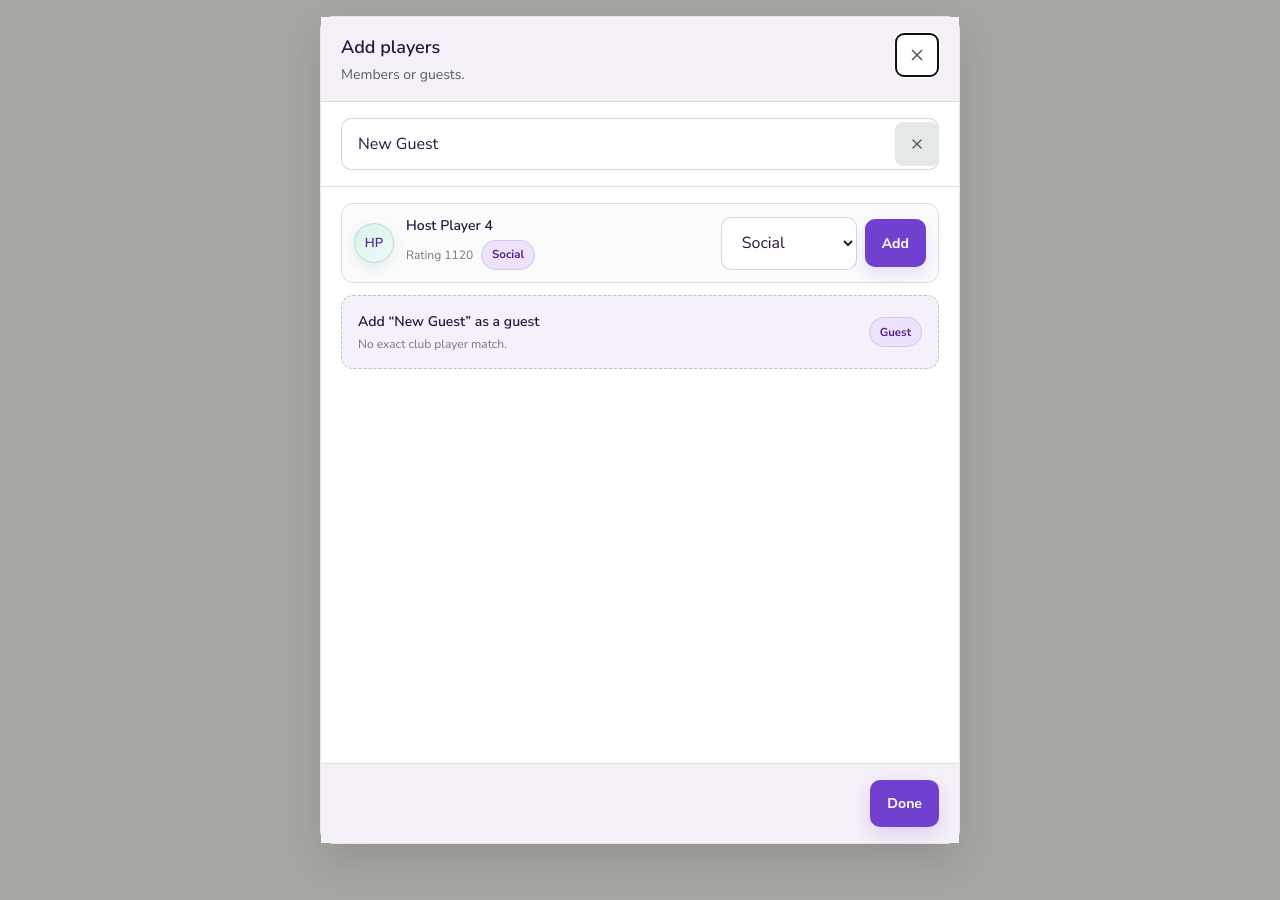
Scenario: SessionRosterModal › shows the guest dialog from a missing-name search result
Step 1. Click the button "Add “New Guest” as a guest No exact club player match. Guest" → (376, 322), box [341, 295, 939, 369]
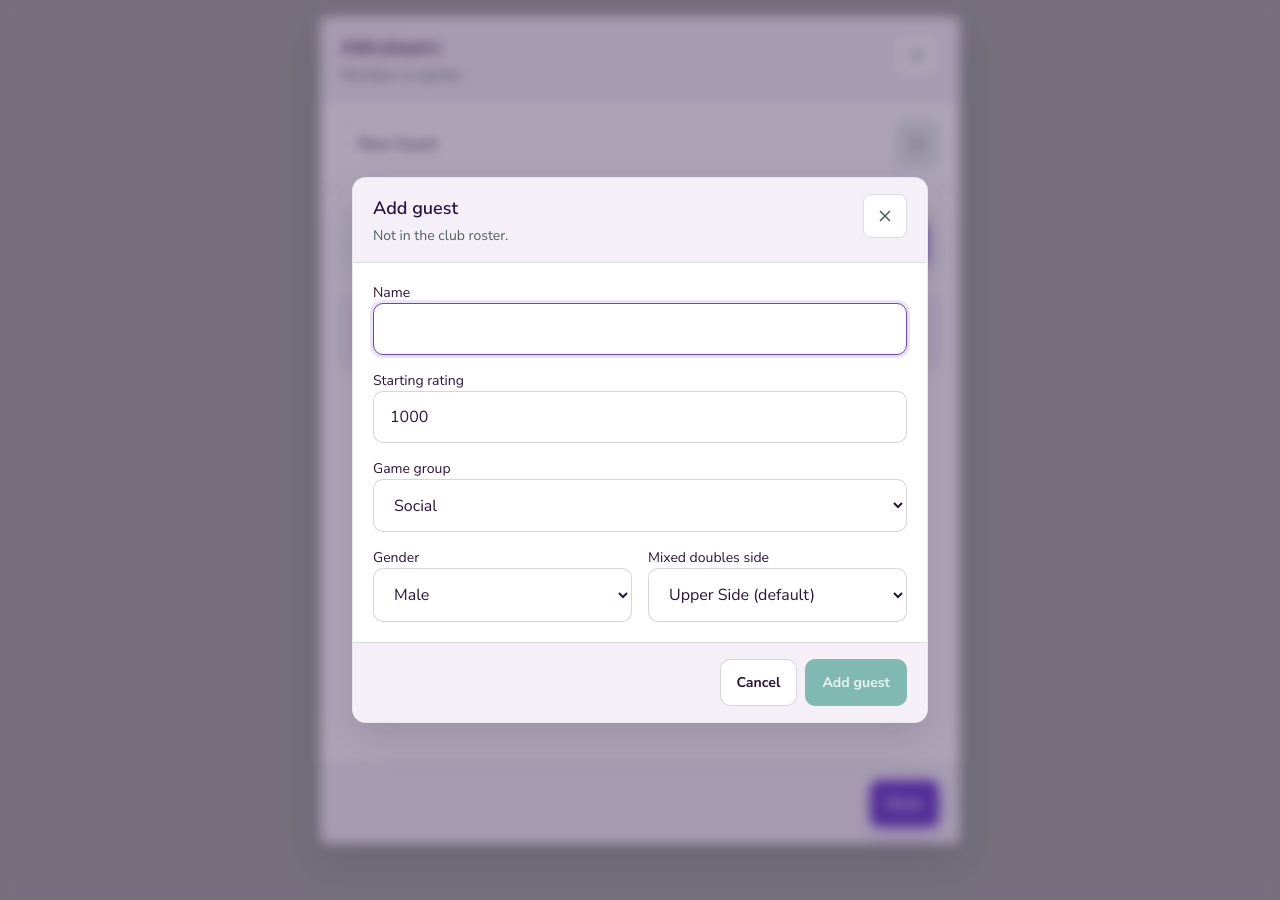
Expected: the text "Add guest" is shown, [373, 196, 458, 220]
Expected: the text "Starting rating" is shown, [373, 371, 464, 390]
Expected: the field named "Guest name" is shown, [373, 303, 907, 355]
